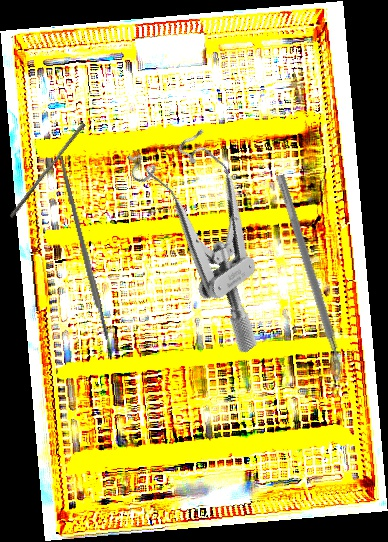Pusher: (8, 119, 87, 222)
Scalpel Handle: (56, 155, 111, 341)
Spatula Surgical: (267, 173, 350, 381)
Speculum: (108, 111, 324, 356)
